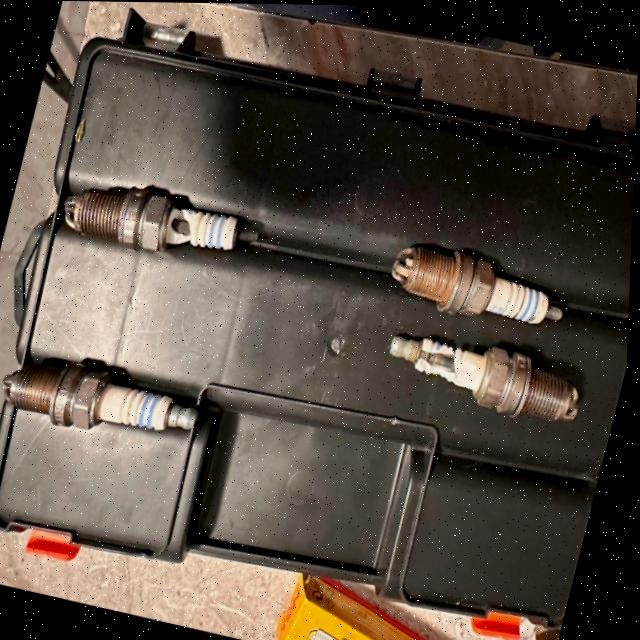damaged_spark-plug: (372, 318, 594, 440), (59, 166, 265, 281)
spark-plug: (2, 344, 224, 471), (372, 229, 584, 341)
